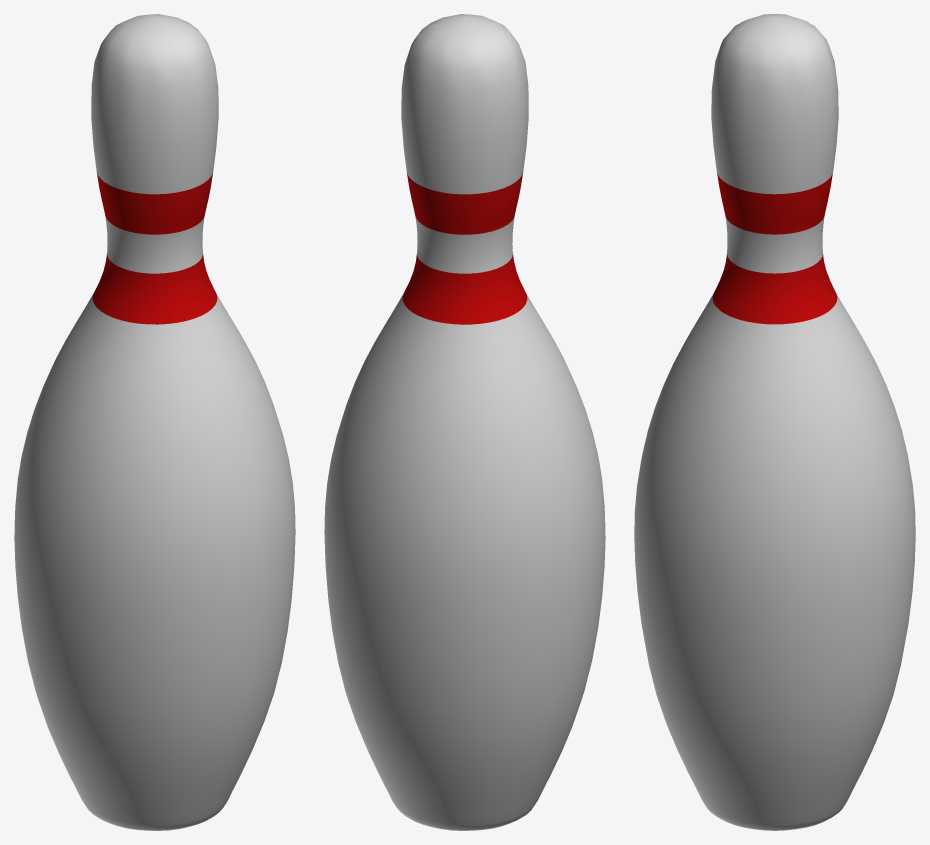
Rendered from smooth bowling pin.fbx.
3 views of the same model, side by side, from view 1: azimuth 30°, elevation 25°; view 2: azimuth 150°, elevation 25°; view 3: azimuth 270°, elevation 25° (orthographic).
Visible parts, largest first — view 1: pCylinder1; view 2: pCylinder1; view 3: pCylinder1.
Boxes of the visible parts, x1,y1,x2,y2 form: pCylinder1: (14,14,295,830); pCylinder1: (324,14,605,830); pCylinder1: (634,14,915,830).
Size of the model in its own units: 1.84 by 5.69 by 1.84.
